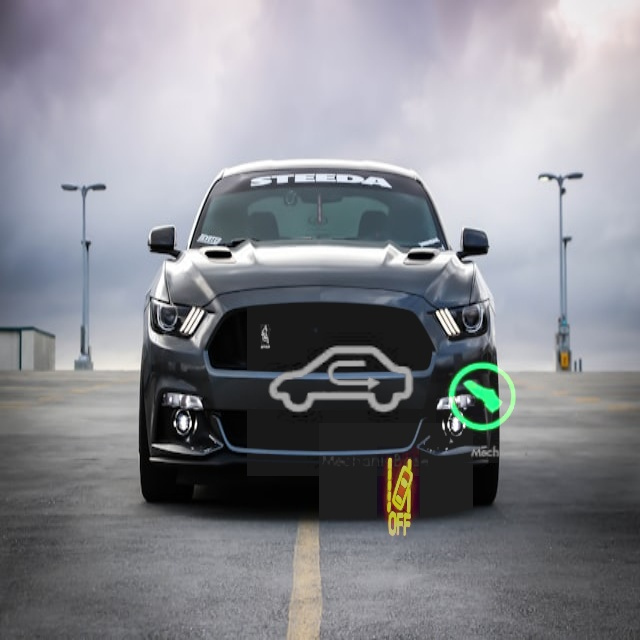symbol: (247, 287, 436, 476), (319, 423, 473, 577), (420, 332, 551, 463)
